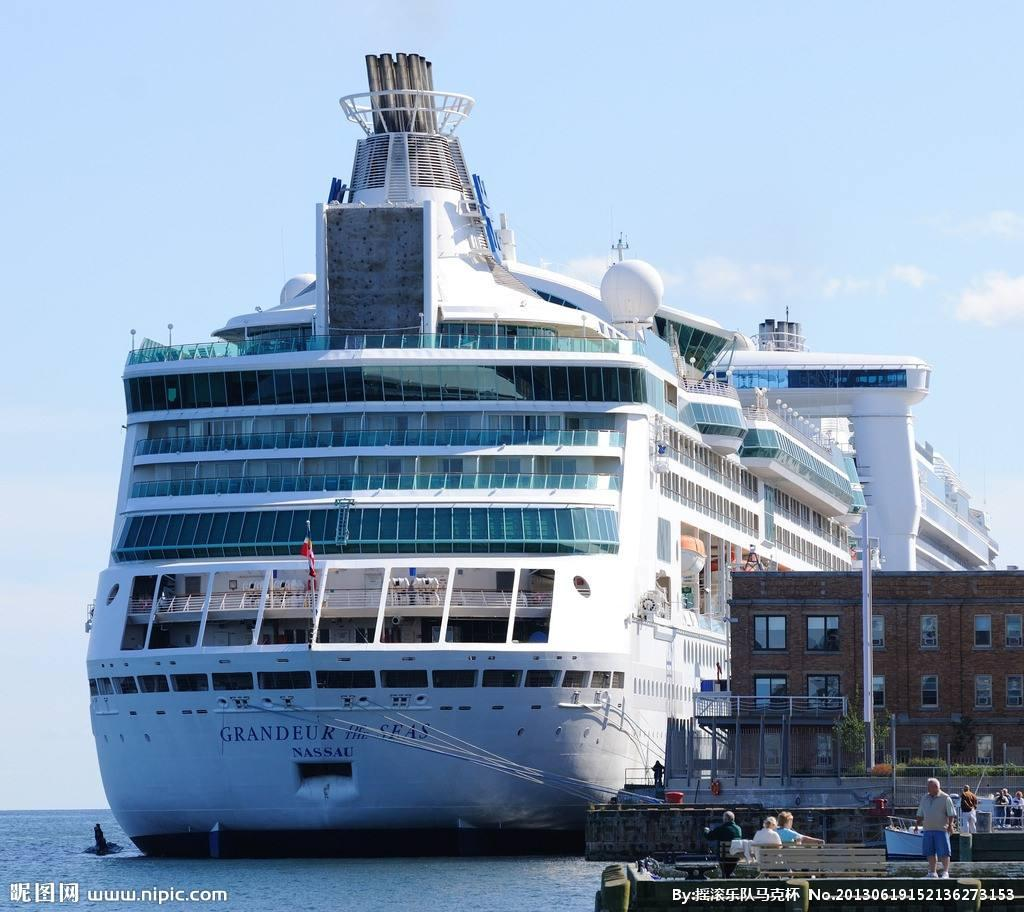youlun: (76, 94, 1000, 846)
